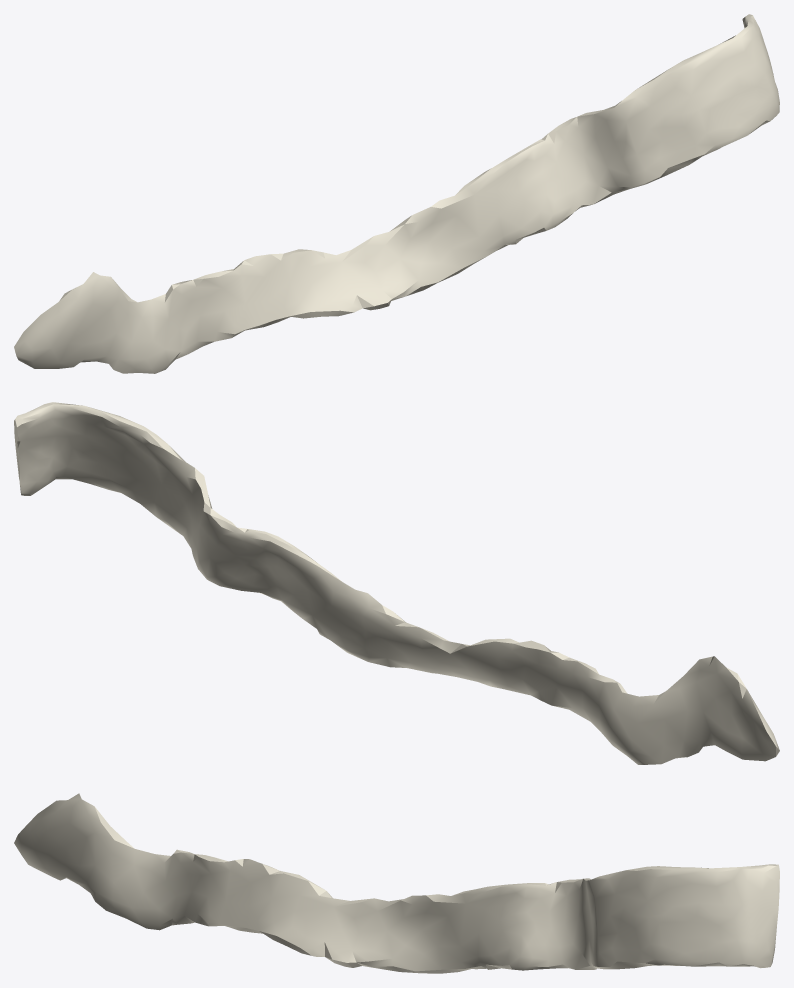
File: fma42462_mm1957.glb
3 renders of one model, top to bottom at view 1: azimuth 30°, elevation 25°; view 2: azimuth 150°, elevation 25°; view 3: azimuth 330°, elevation 25°, orthographic.
Parts seen in each view (by area): view 1: FMA42462_MM1957; view 2: FMA42462_MM1957; view 3: FMA42462_MM1957.
Part boxes in pixels (<box>): FMA42462_MM1957: <box>14,14,779,373</box>; FMA42462_MM1957: <box>14,402,779,764</box>; FMA42462_MM1957: <box>14,793,779,973</box>.
Size of the model in its own units: 0.0717 by 0.0188 by 0.00759.
